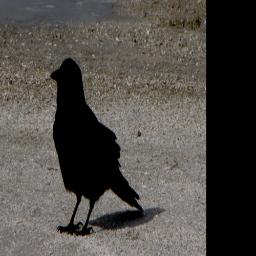Crow: (48, 56, 145, 238)
